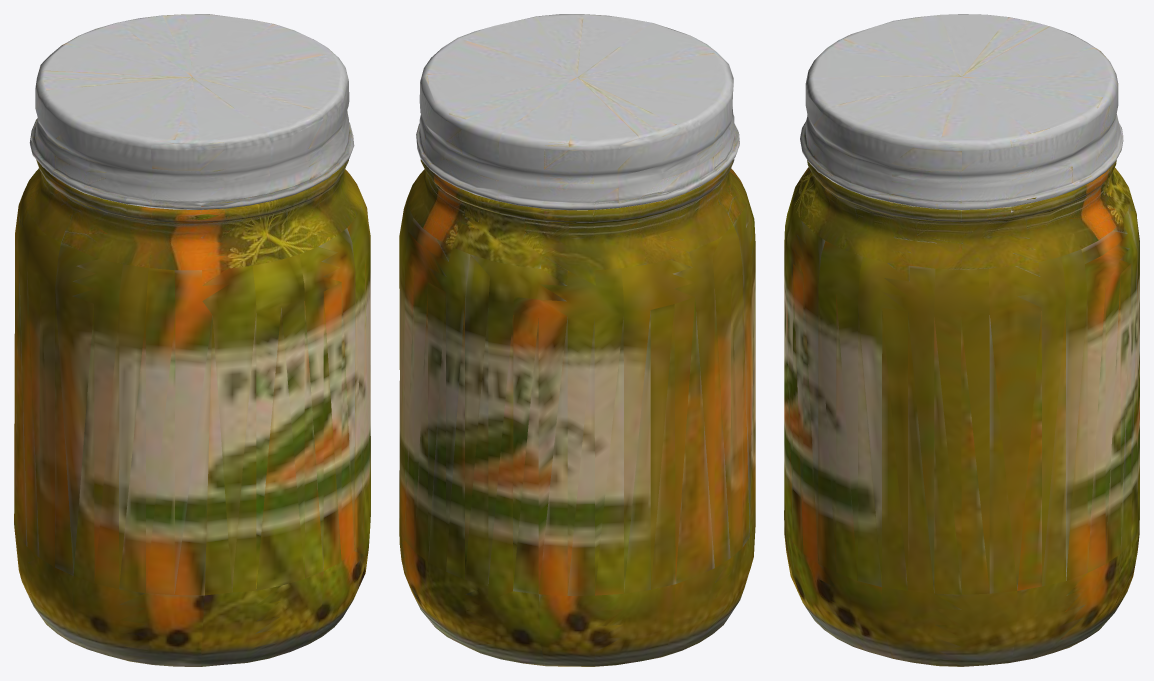
The model's file is food-pickles.glb.
3 renders of one model, left to right at view 1: azimuth 30°, elevation 25°; view 2: azimuth 150°, elevation 25°; view 3: azimuth 270°, elevation 25°, orthographic.
Parts seen in each view (by area): view 1: food-pickles; view 2: food-pickles; view 3: food-pickles.
Boxes of the visible parts, left/top/right/bottom form: food-pickles: left=14, top=14, right=370, bottom=666; food-pickles: left=399, top=14, right=755, bottom=666; food-pickles: left=784, top=14, right=1139, bottom=666.
Bounding box in the file's own units: 0.1096 × 0.18 × 0.1103.
1 material, 1 textured.
